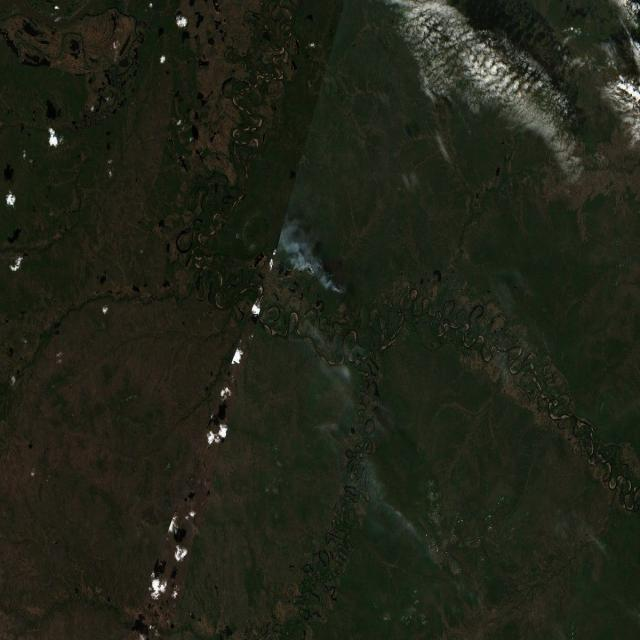fire: (309, 253, 352, 301)
